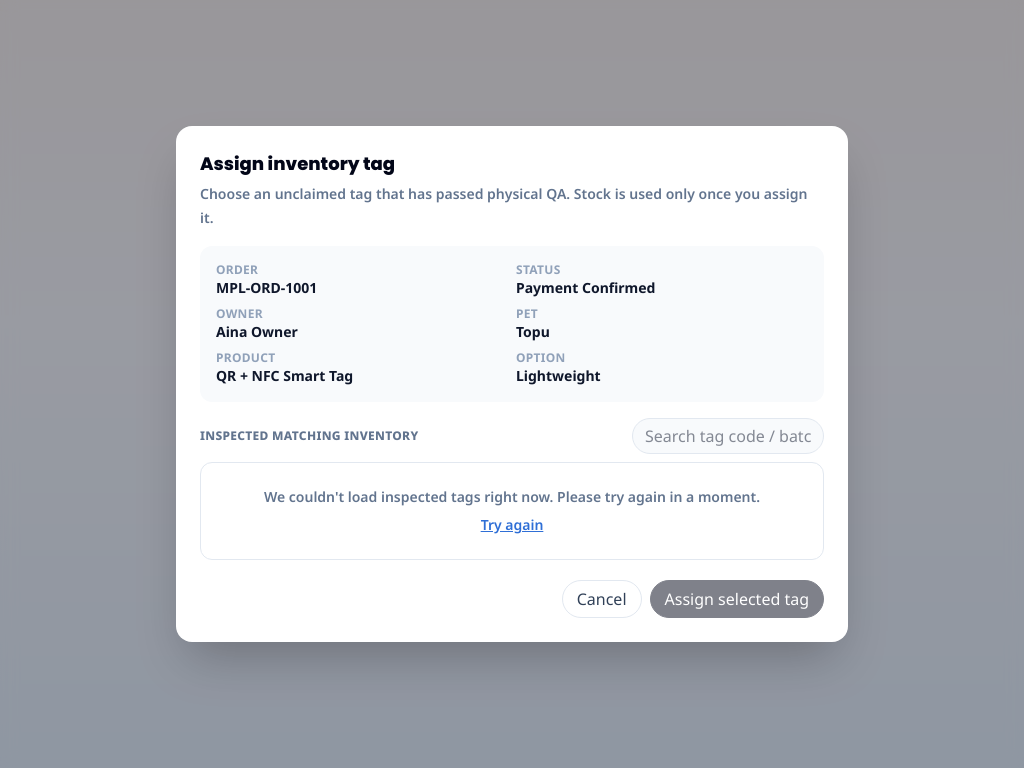
Test case: TagAssignmentModal › offers a retry when inspected tags cannot be loaded
What coordinates should you click on to do the following:
click the button "Try again"
I would click on:
 (512, 525)
Its box is [481,515,543,535].
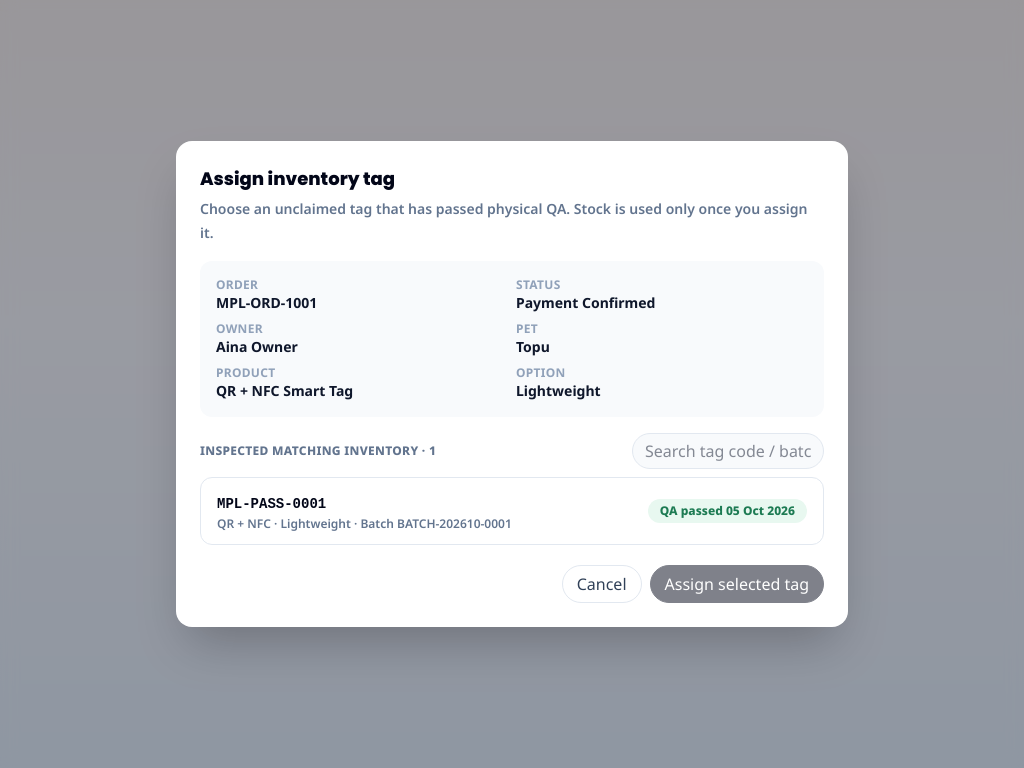
Expected: the text "MPL-PASS-0001" is shown, [217,496,326,512]
